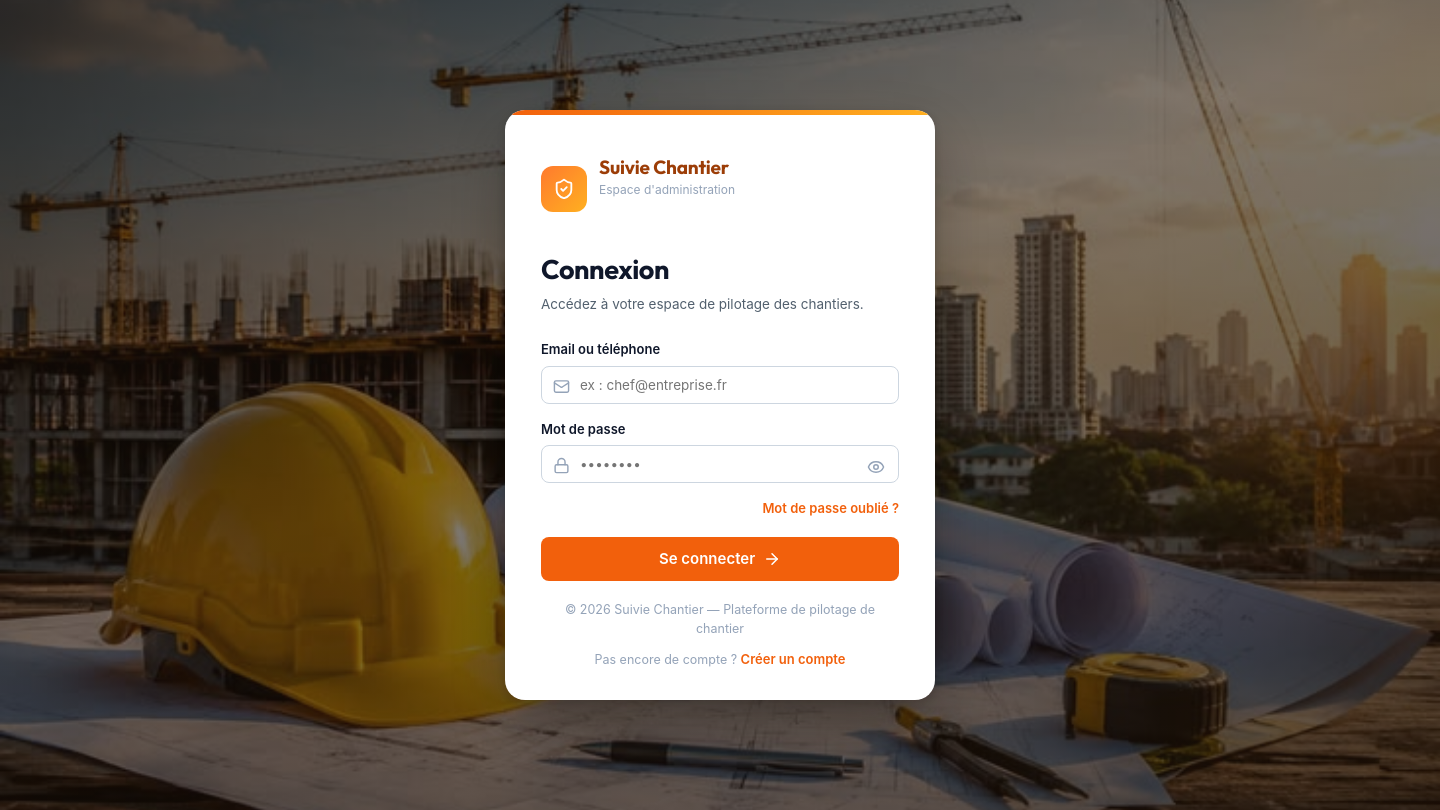
double authentification › affiche la saisie du code à six chiffres
Type "balla@widjila.com" into the field labelled "Email ou téléphone" at (720, 385), box [541,366,899,404]
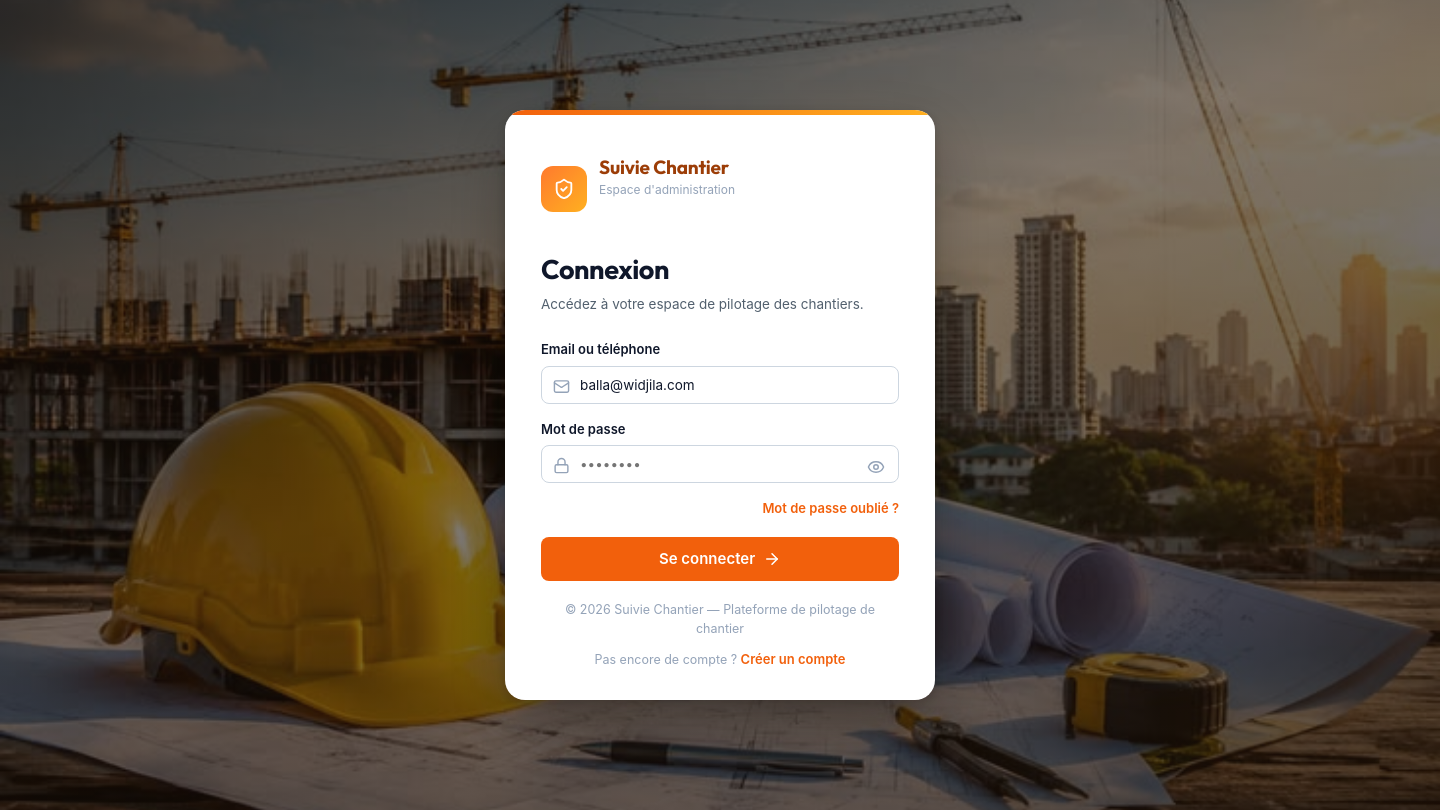
Type "Motdepasse1!" into the password field labelled "Mot de passe" at (720, 464), box [541,445,899,483]
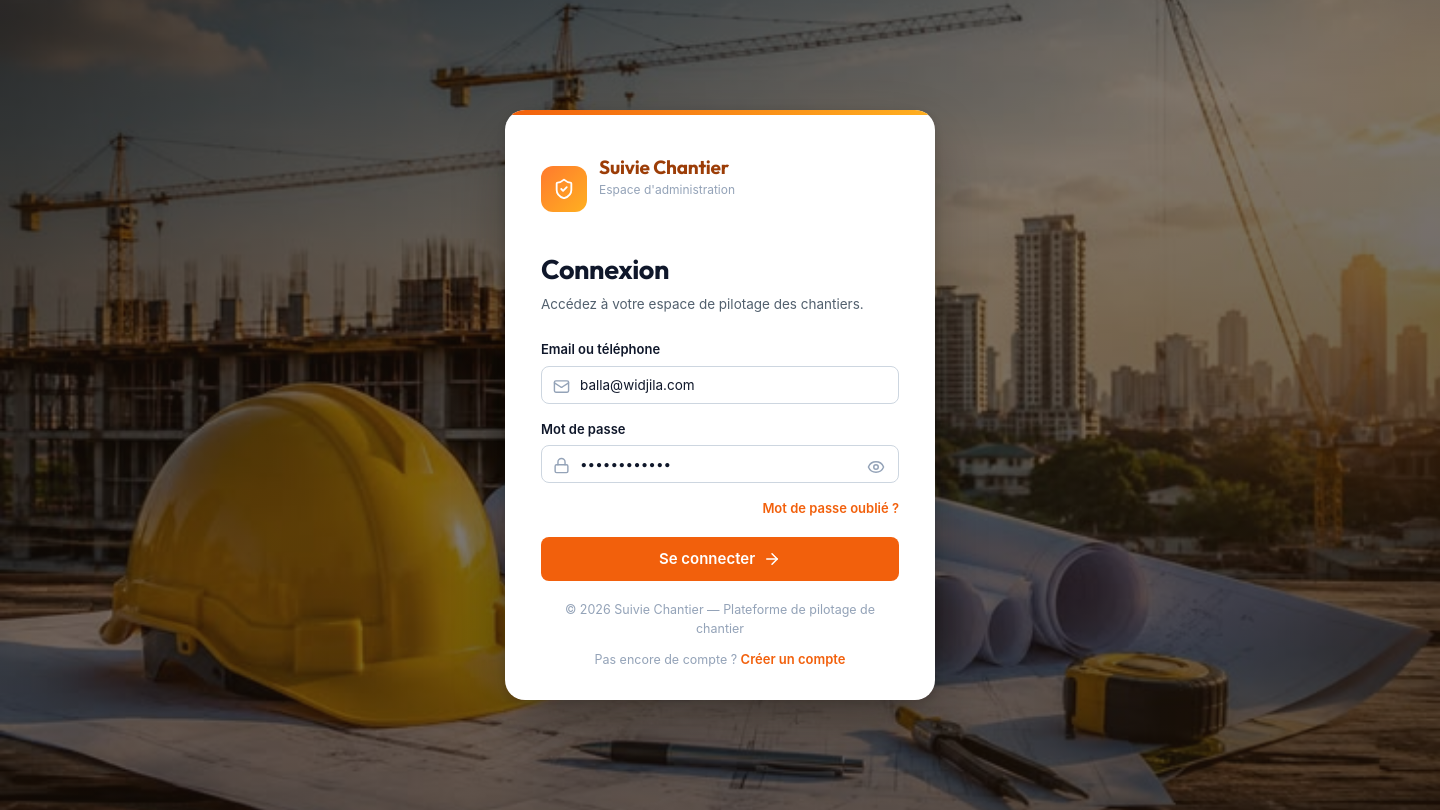
Click the button "Se connecter" at (720, 559), box [541,537,899,581]
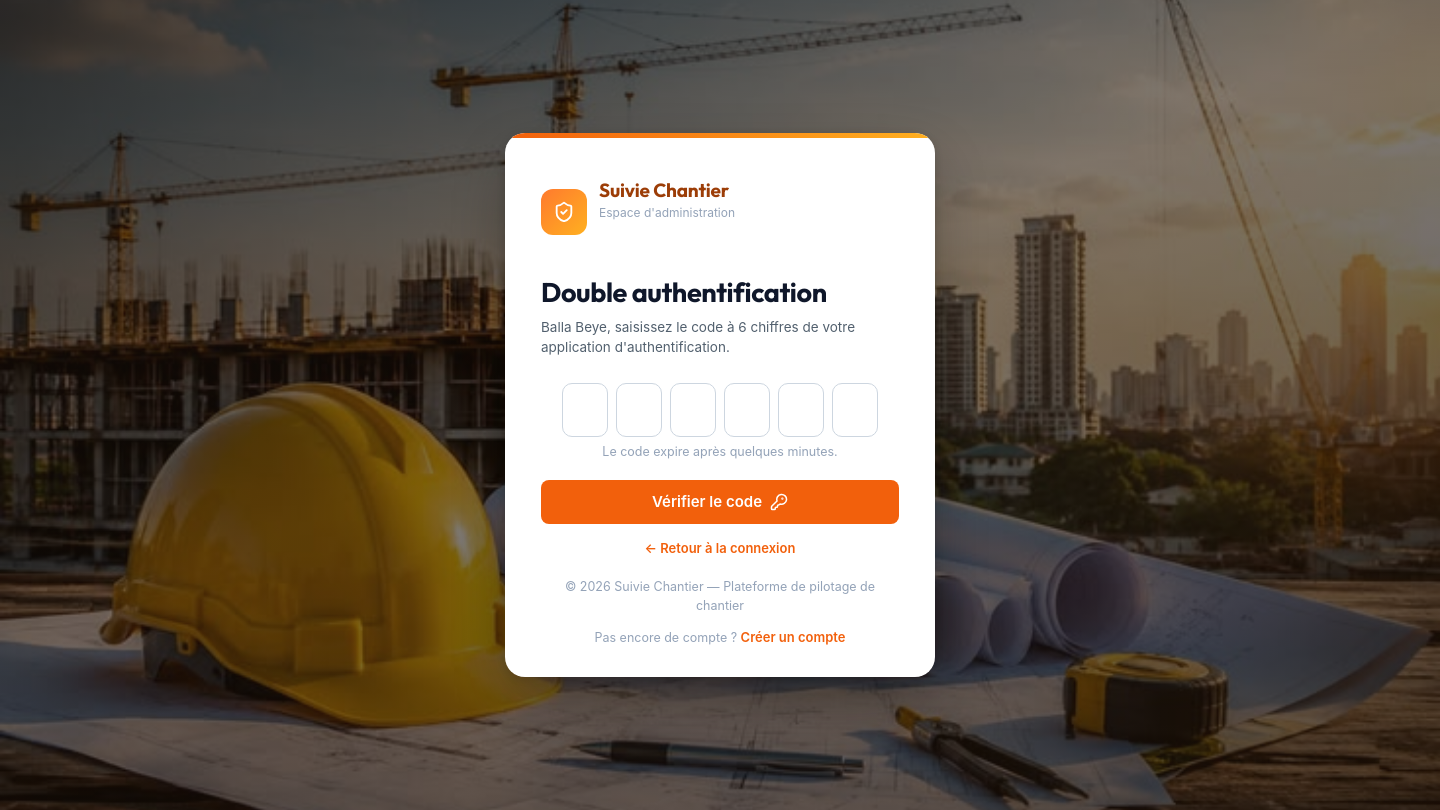
expect the number of fields named "Chiffre 1" is 6: met, box [562,383,608,437]; [616,383,662,437]; [670,383,716,437]; [724,383,770,437]; [778,383,824,437]; [832,383,878,437]
